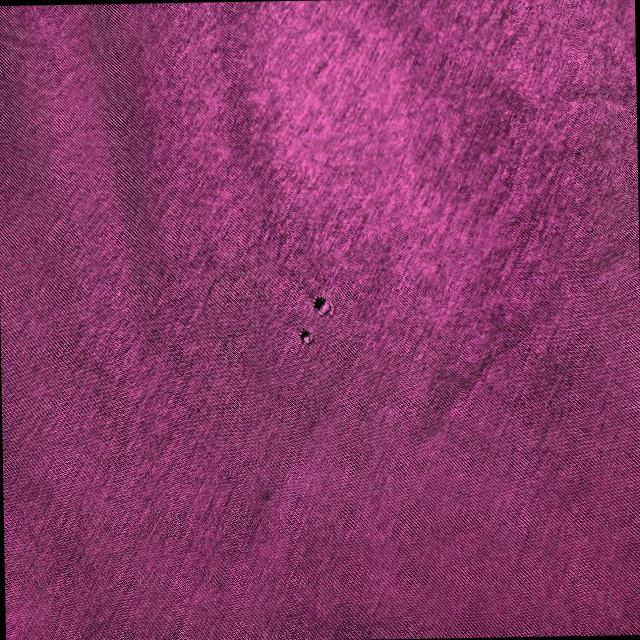cut: (309, 286, 339, 322), (296, 325, 318, 350)
